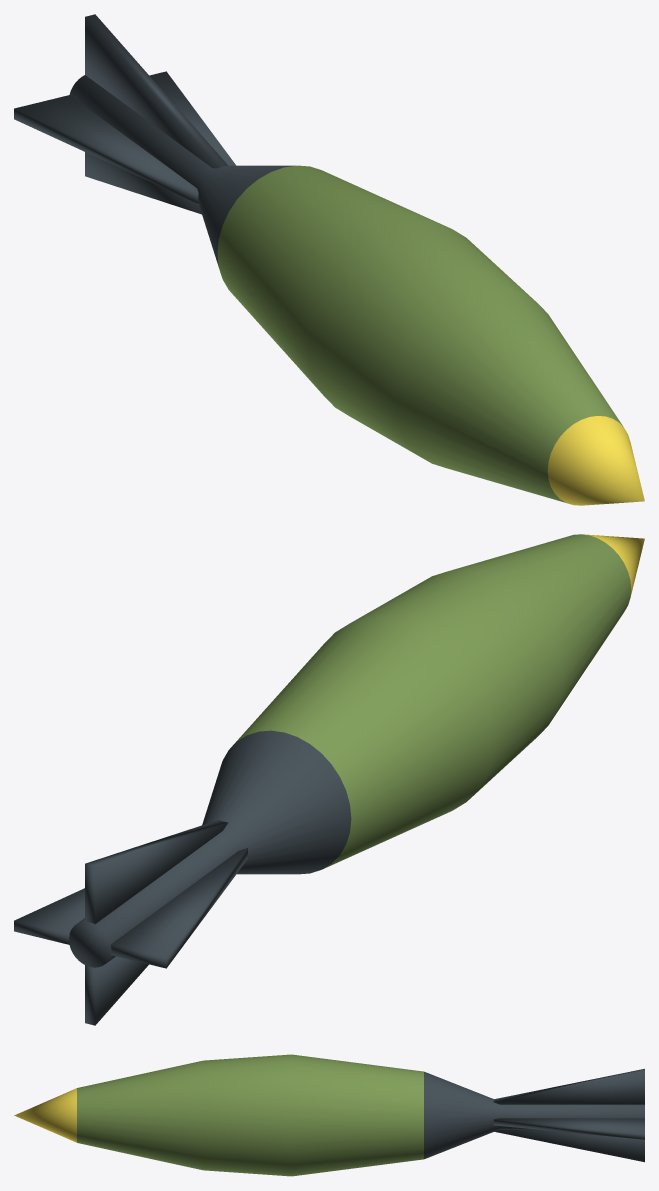
File: mortar_60_projectile_display.glb
3 renders of one model, top to bottom at view 1: azimuth 30°, elevation 25°; view 2: azimuth 150°, elevation 25°; view 3: azimuth 270°, elevation 25°, orthographic. The views are drawn at different scales.
Visible parts, largest first — view 1: AMMO_MESH.031; view 2: AMMO_MESH.031; view 3: AMMO_MESH.031.
Boxes of the visible parts, x1=… form: AMMO_MESH.031: x1=14, y1=14, x2=644, y2=505; AMMO_MESH.031: x1=14, y1=534, x2=644, y2=1025; AMMO_MESH.031: x1=14, y1=1054, x2=644, y2=1176.
Bounding box in the file's own units: 0.06 × 0.06 × 0.31.
